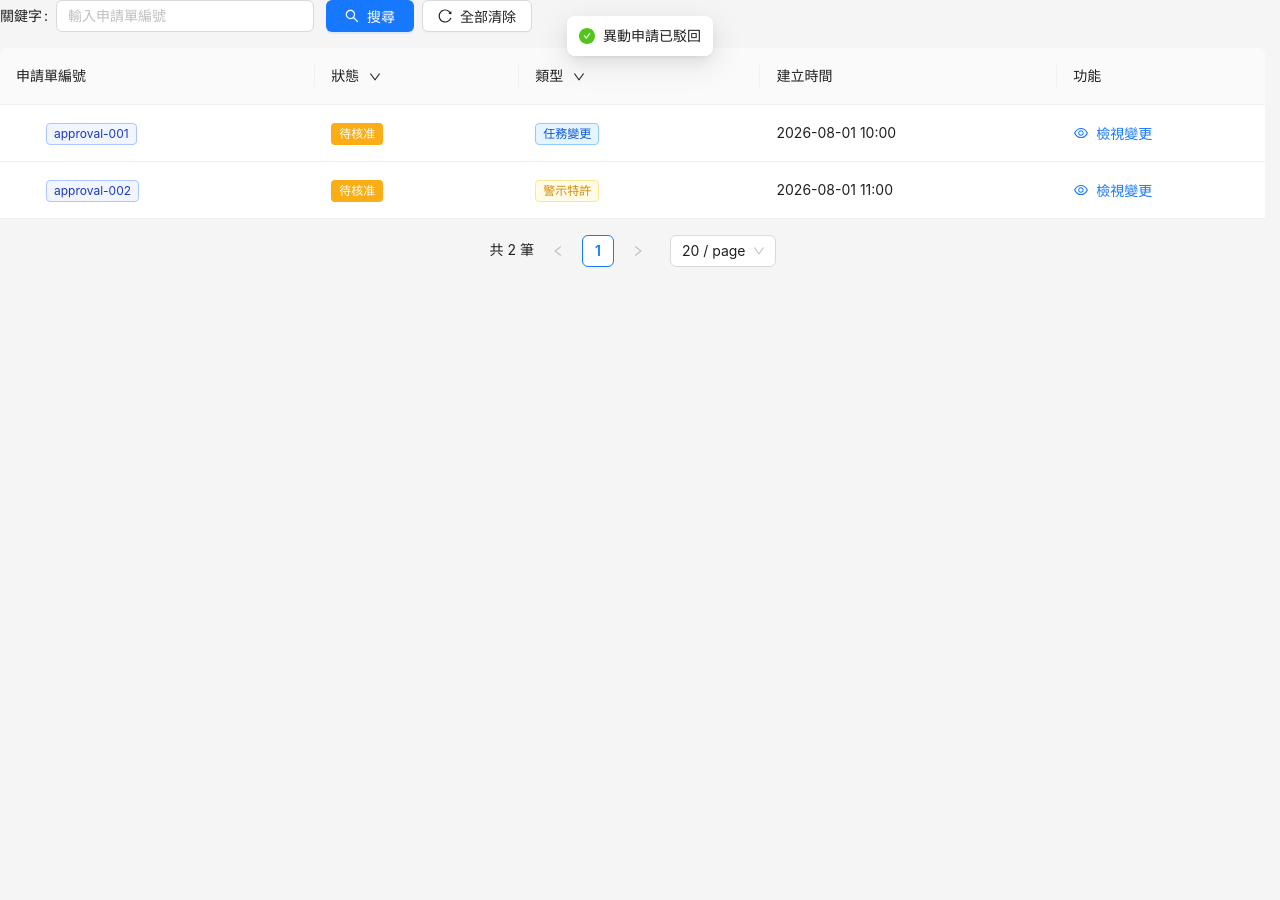
Scenario: ApprovalPage › 項目對照與彈窗內審批流程 › renders as application progress tracking for LEADER (no approve/reject buttons, provides withdraw)
The image size is (1280, 900).
Expected: the field with placeholder "輸入申請單編號" is shown, 68,5 -> 286,27
Expected: the text "申請人" is not shown
Click the button "檢視變更" in the row of "approval-001": (1113, 133) 1073,121 -> 1153,145
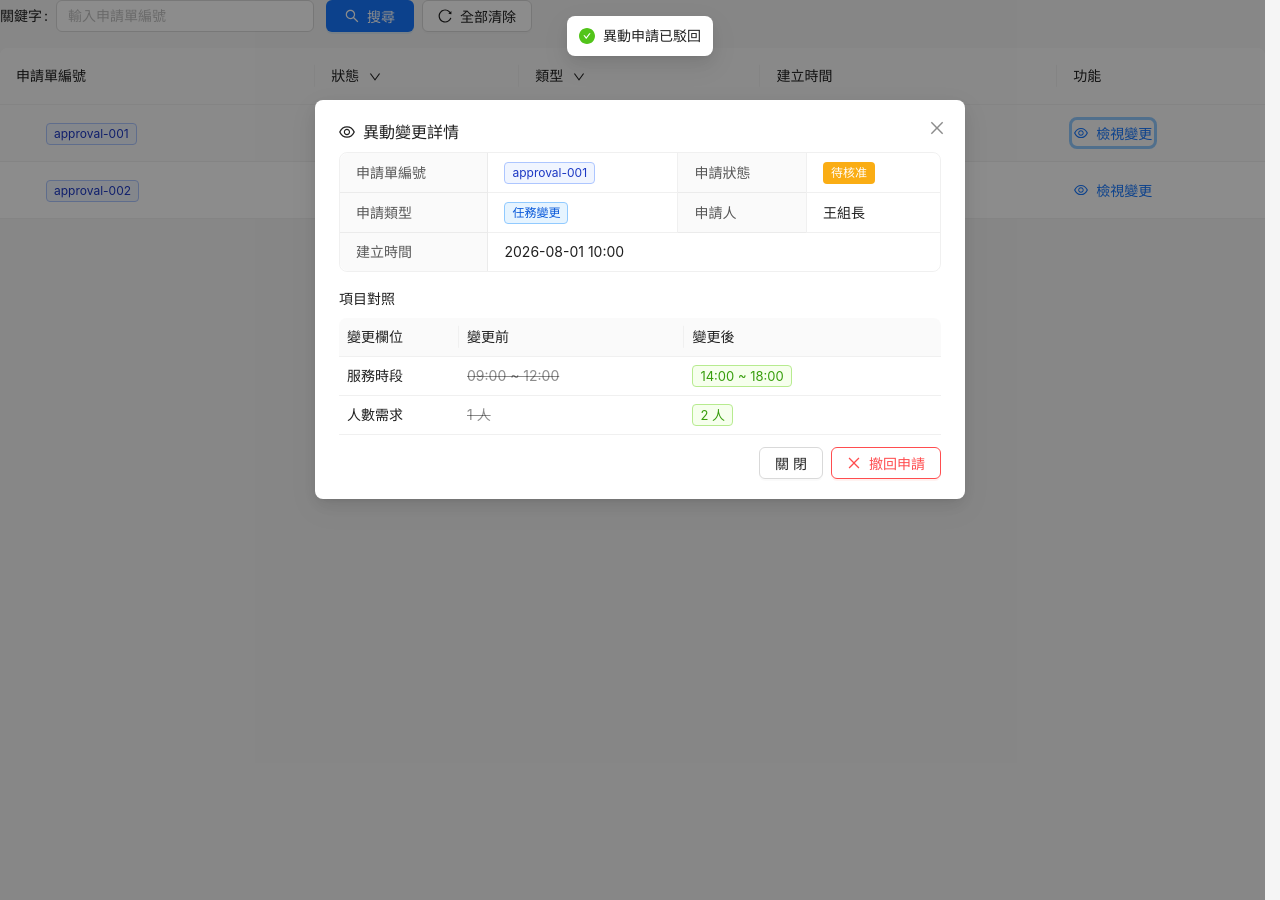
Result: the button "撤回申請" is shown at 831,447 -> 941,479
